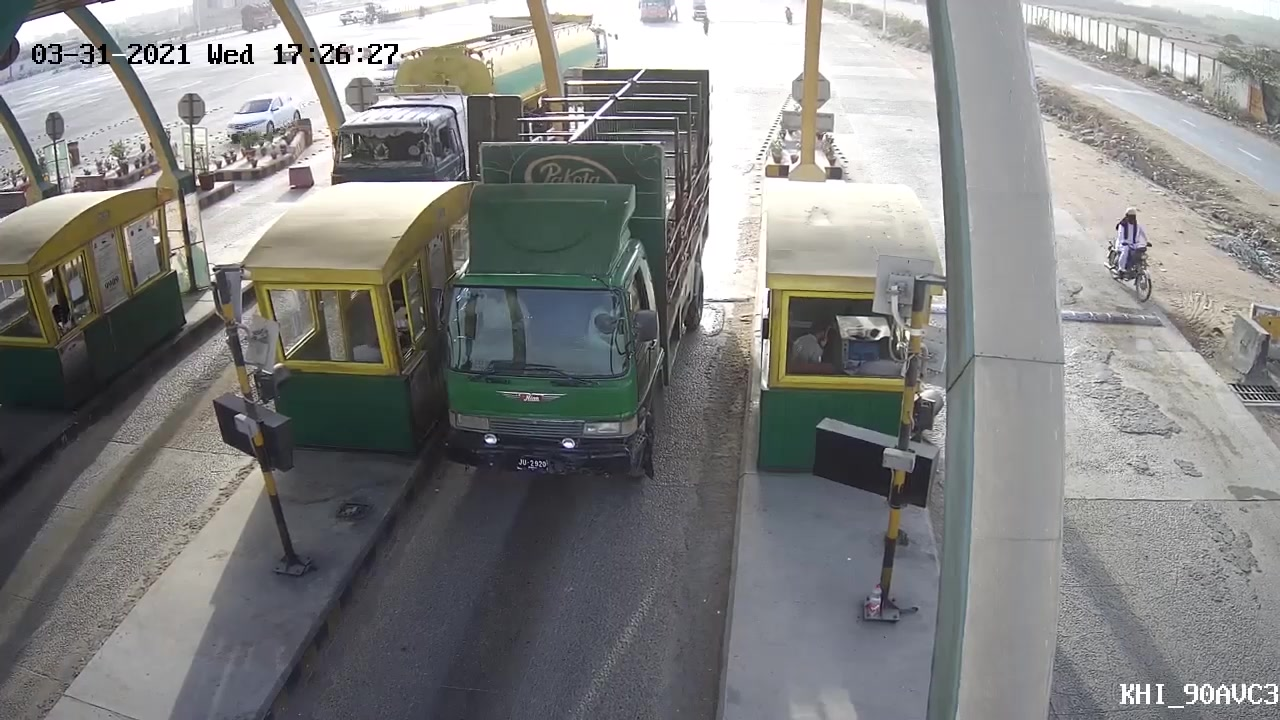F3: (442, 68, 708, 490)
